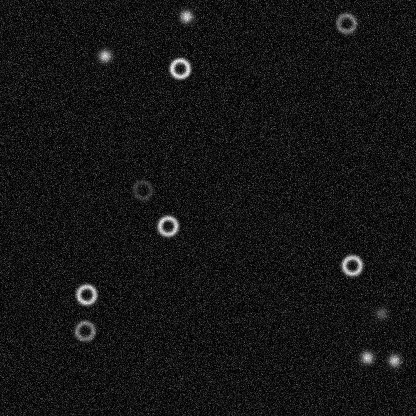Ring: (130, 177, 154, 201), (155, 213, 179, 237), (72, 318, 96, 342), (334, 11, 358, 35), (74, 282, 98, 306), (167, 56, 191, 80), (339, 253, 363, 277)
Spot: (178, 8, 194, 24), (373, 305, 389, 321), (358, 349, 374, 365), (96, 47, 112, 63), (386, 352, 402, 368)
